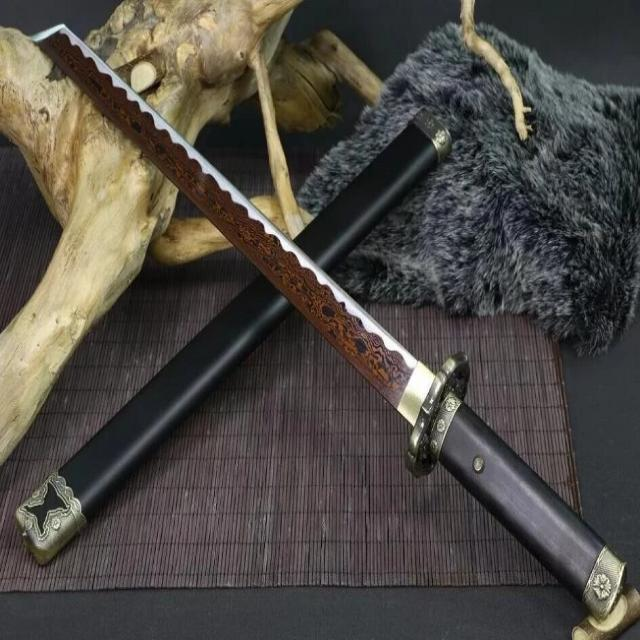short sword: (22, 11, 640, 640)
